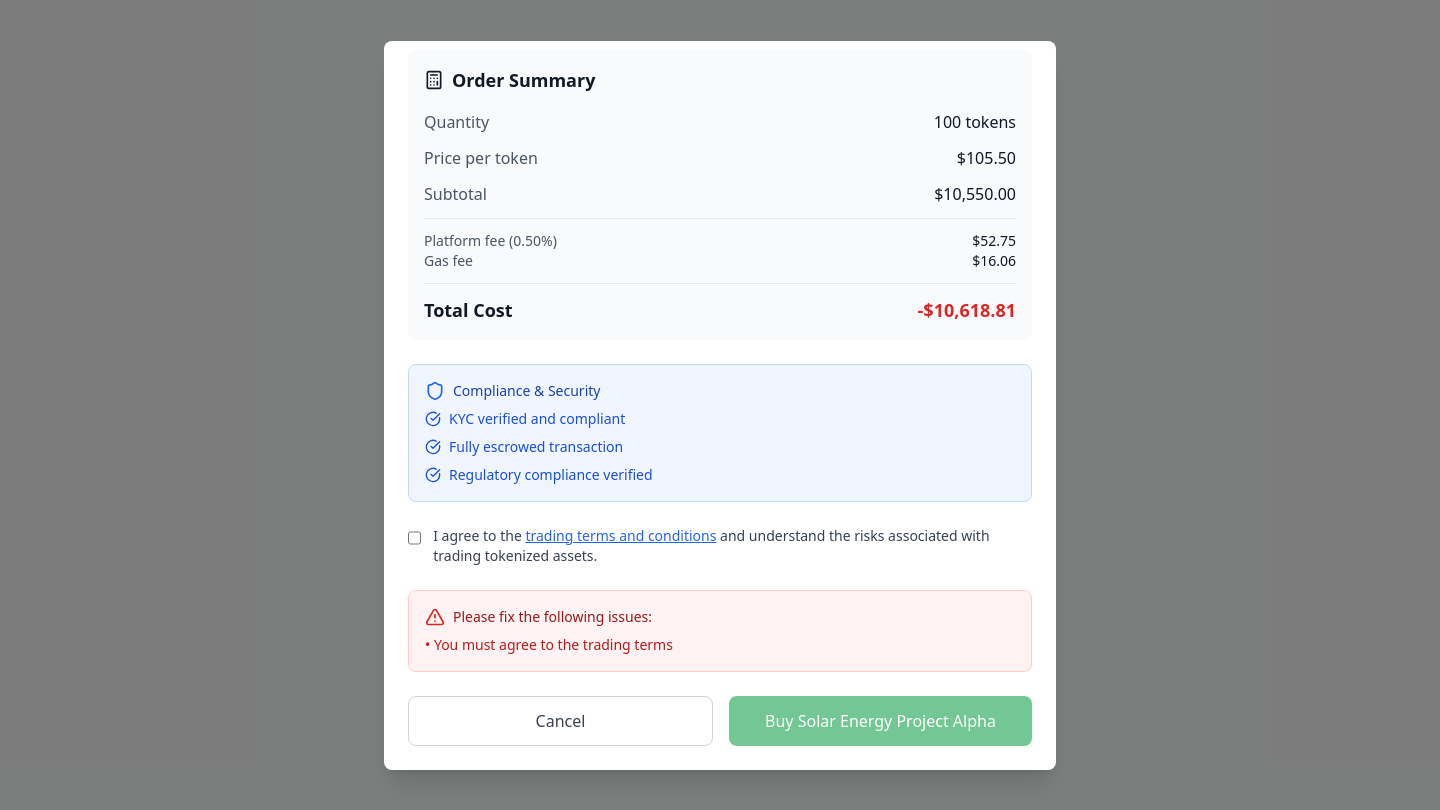
Test: TradeModal › requires terms agreement
This screenshot has width=1440, height=810.
(page scrolled)
Expected: the button "Buy Solar Energy Project Alpha" is disabled, left=729, top=696, right=1032, bottom=746
Click the checkbox: (415, 538) left=408, top=530, right=421, bottom=546
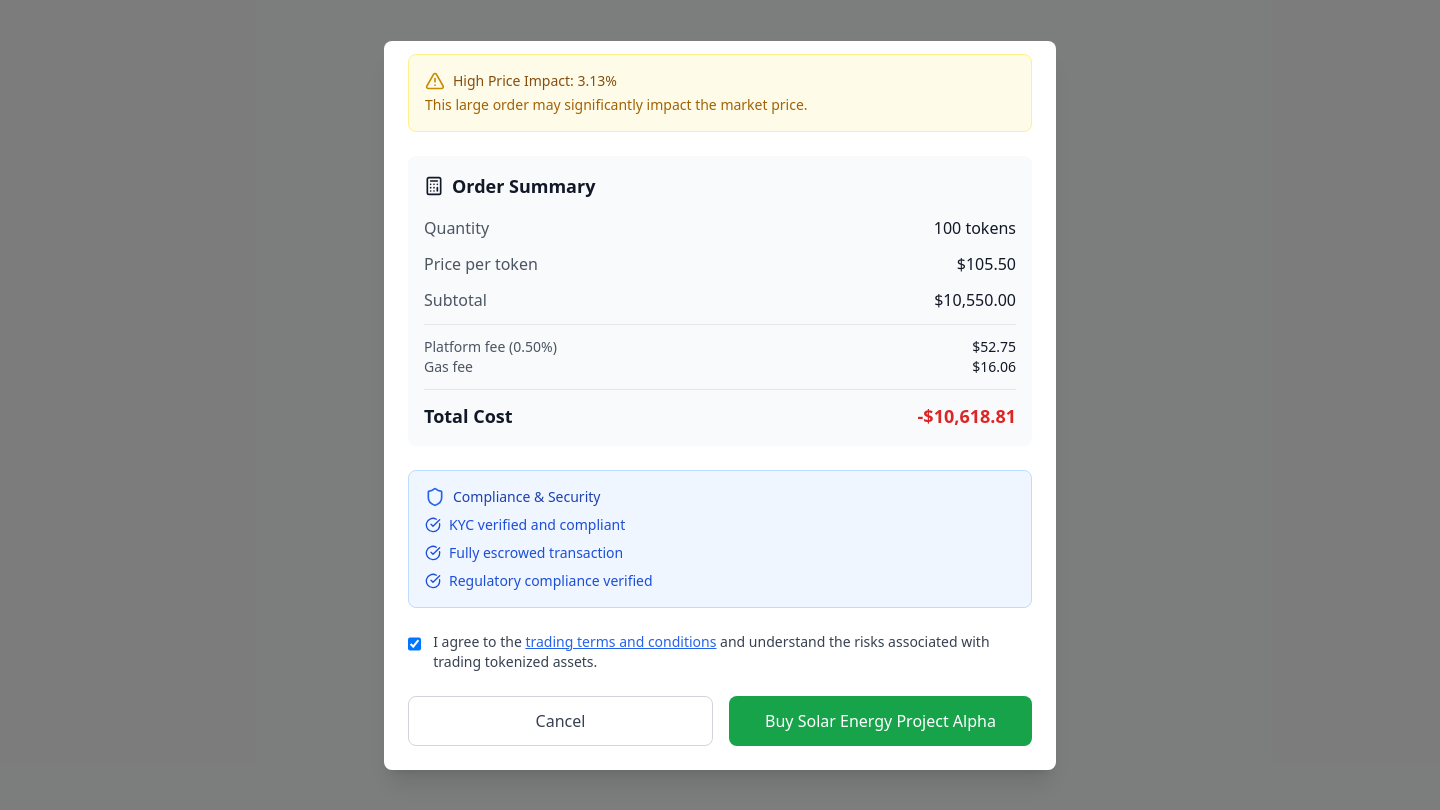
Result: the button "Buy Solar Energy Project Alpha" is enabled at left=729, top=696, right=1032, bottom=746
